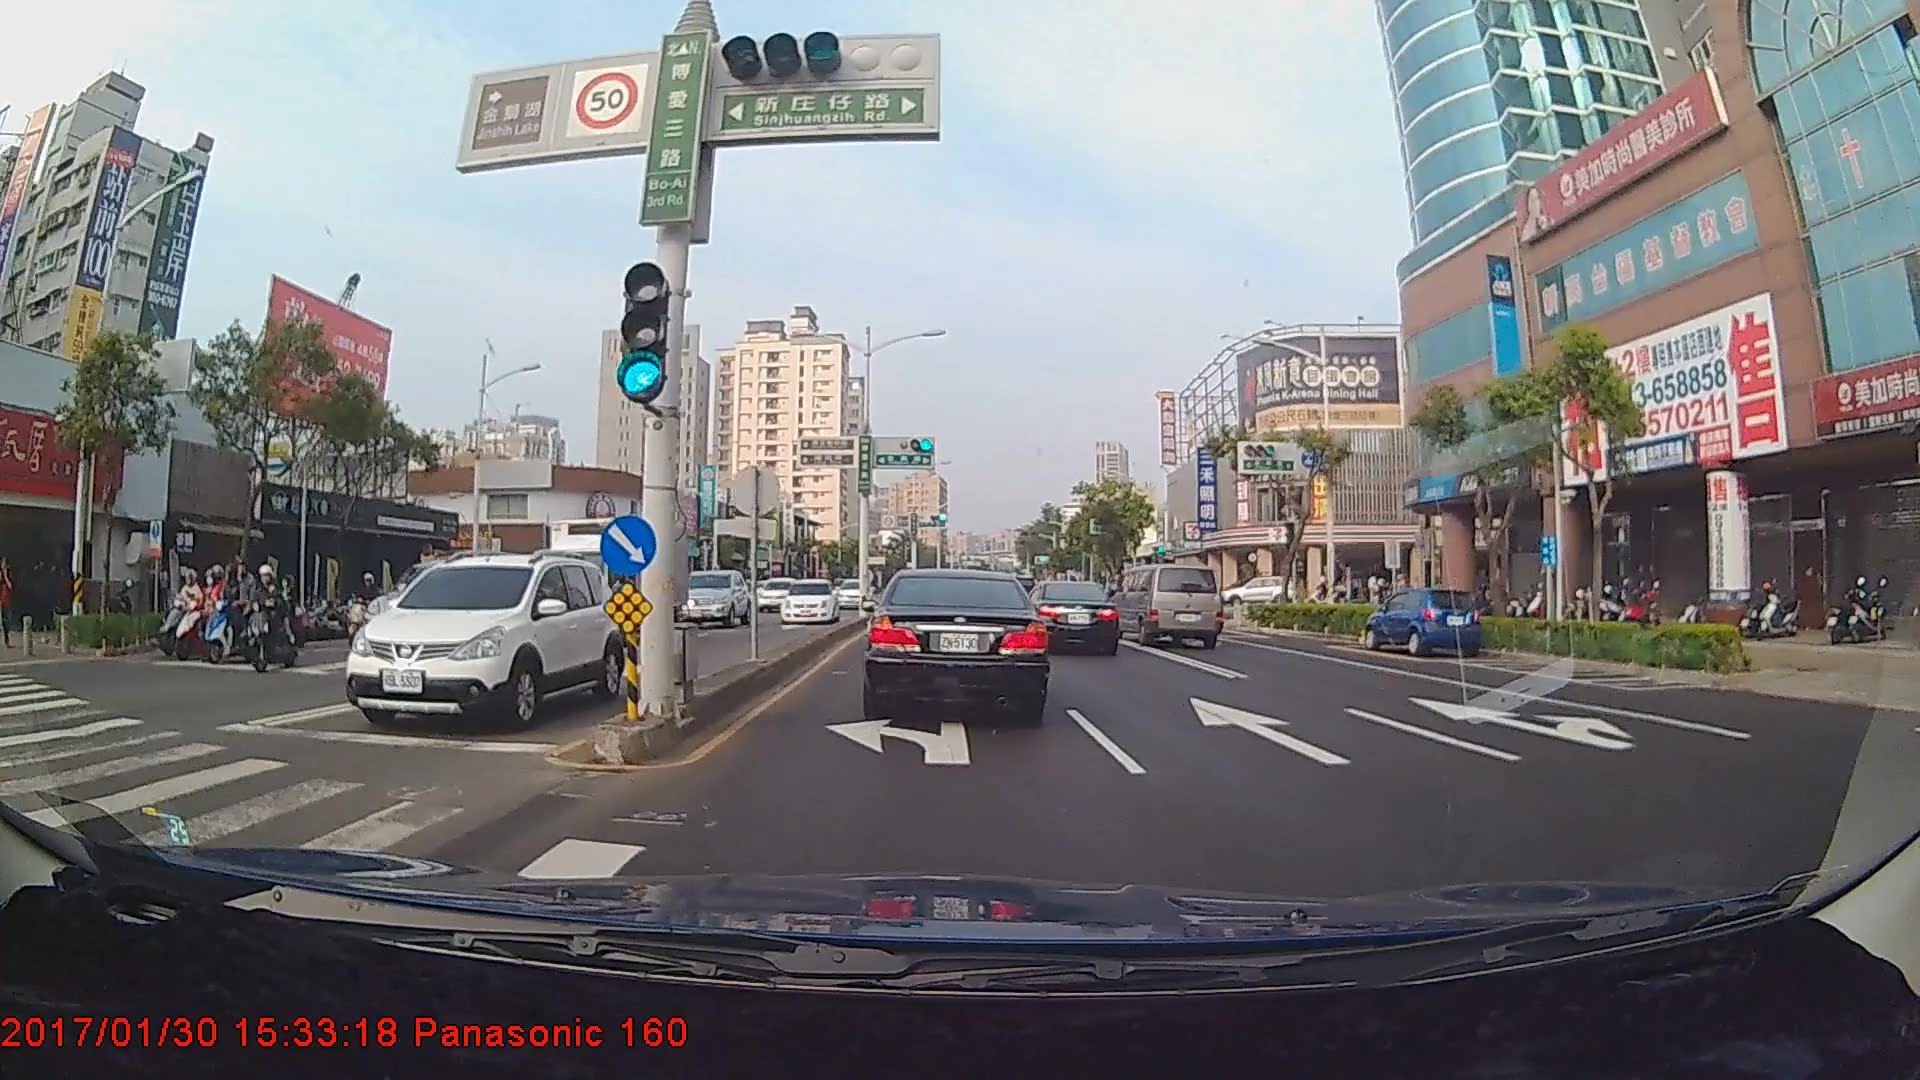pedestrian: (1, 553, 21, 652)
rider: (238, 559, 308, 679), (203, 561, 283, 662), (173, 562, 251, 660), (161, 566, 221, 656)
vehicle: (348, 551, 617, 730), (864, 563, 1048, 720), (533, 514, 680, 654), (1112, 564, 1222, 648), (1367, 585, 1483, 658), (1019, 573, 1120, 655), (675, 564, 749, 629), (774, 574, 835, 624), (1232, 576, 1282, 606), (755, 576, 797, 609), (833, 576, 867, 610)
